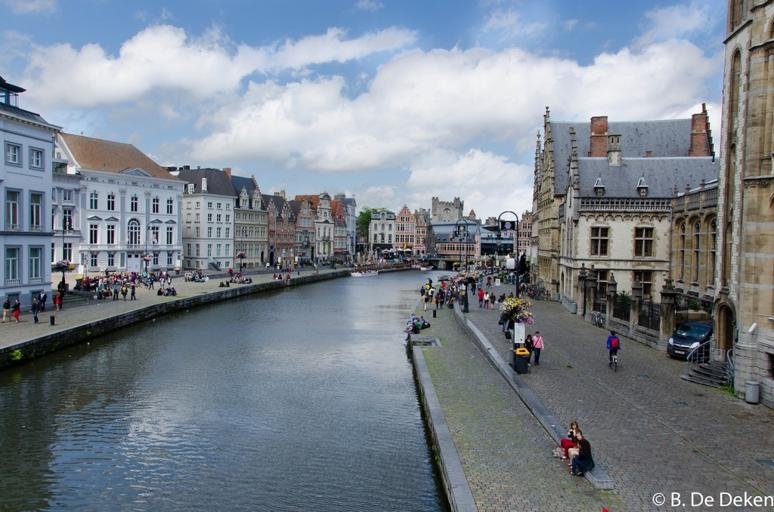non-vehicle: (605, 345, 620, 369), (590, 310, 603, 328)
